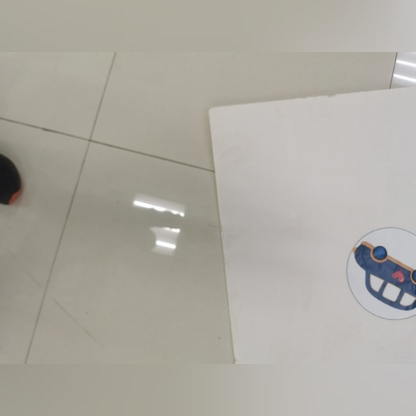car: (340, 224, 416, 322)
